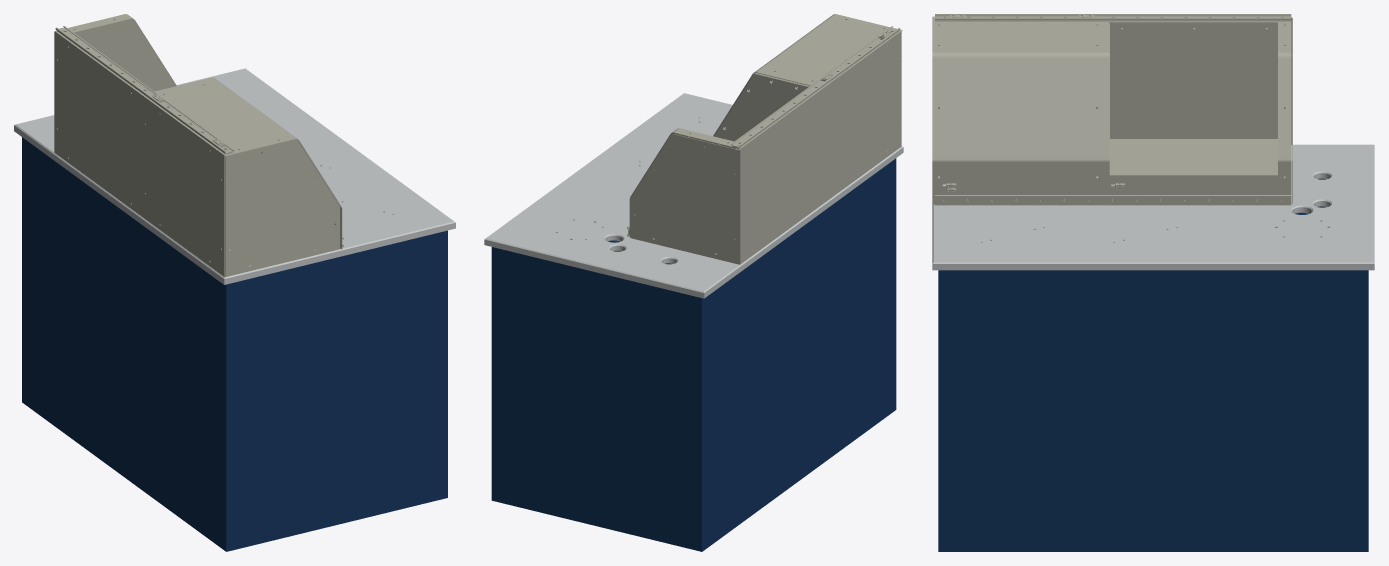
File: shunk_machine_nodoor_nolathe_v2.dae
The picture shows the model from 3 angles, left to right: view 1: azimuth 30°, elevation 25°; view 2: azimuth 150°, elevation 25°; view 3: azimuth 270°, elevation 25°; orthographic projection. The views are drawn at different scales.
Parts seen in each view (by area): view 1: base_shunk; view 2: base_shunk; view 3: base_shunk.
Part boxes in pixels (box(x1,y1,x2,y2)): base_shunk: box(14, 14, 455, 551); base_shunk: box(484, 14, 903, 551); base_shunk: box(932, 14, 1374, 551).
Size of the model in its own units: 0.7 by 1.1 by 1.17.
